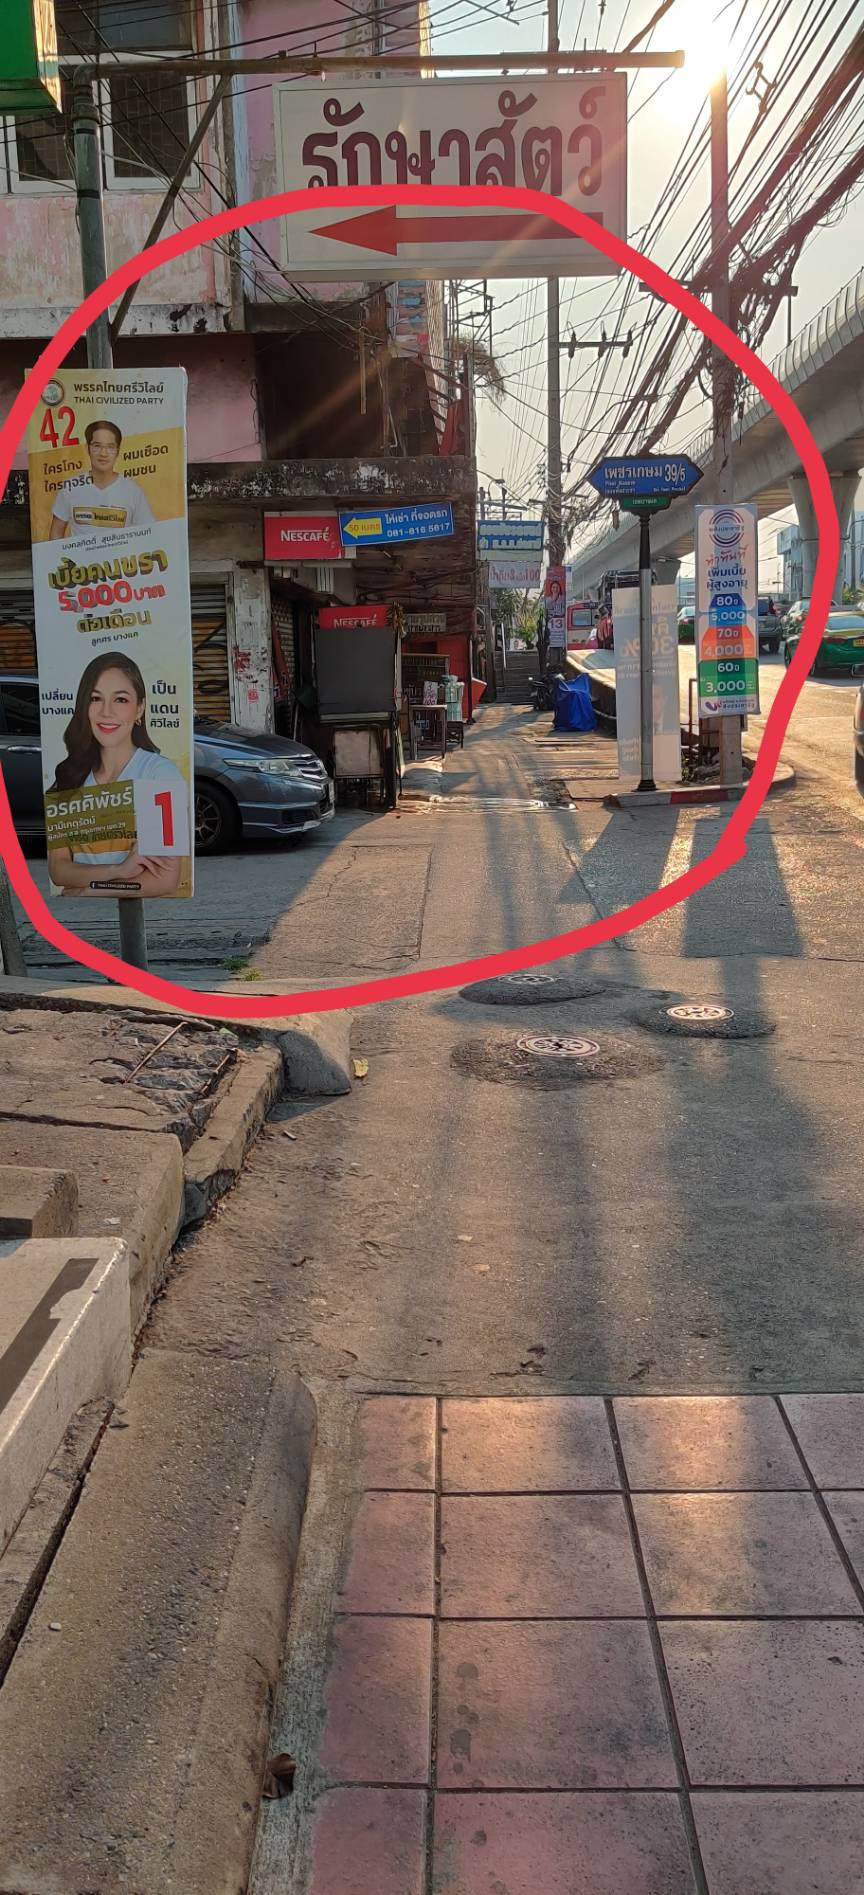Banner: (15, 341, 198, 904)
